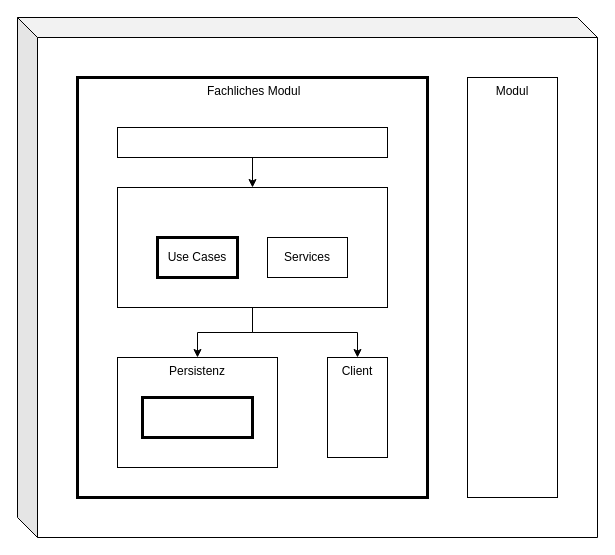
The diagram is 615 pixels wide and 555 high, and some of its shapes have lost their labels. Each missing label, with the box of its shape:
API: (116, 126, 388, 158)
Business: (116, 186, 388, 308)
Technische & fachliche Entity: (140, 396, 254, 438)
